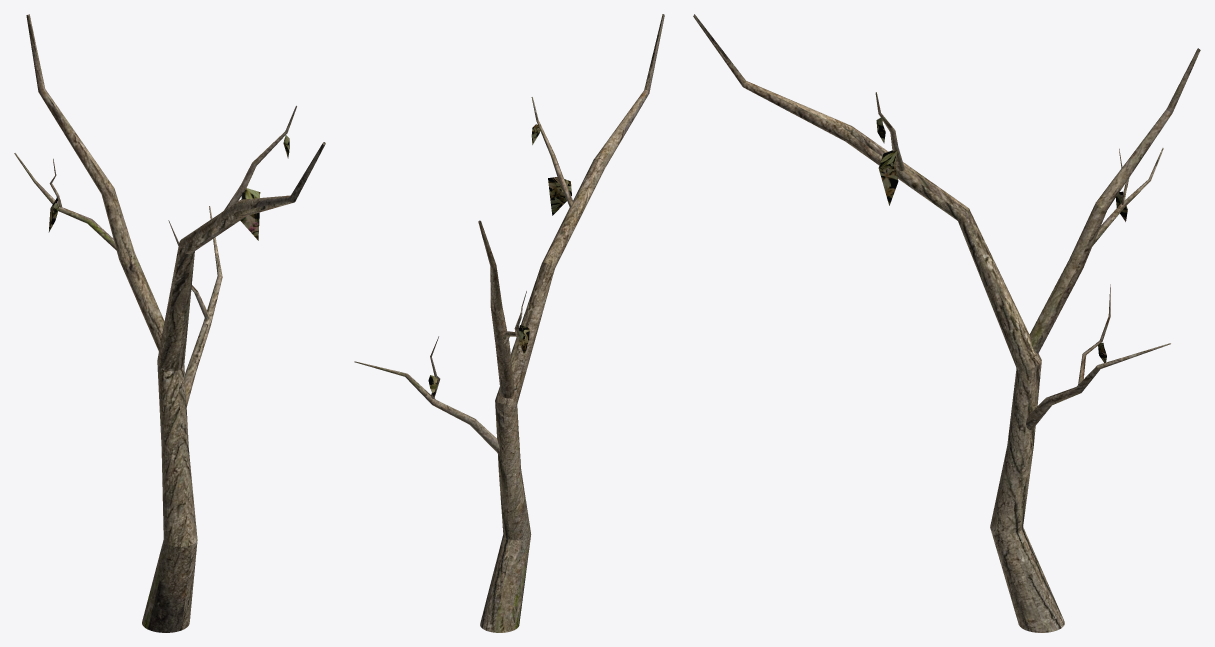
File: BushPlantDead.fbx
The picture shows the model from 3 angles, left to right: view 1: azimuth 30°, elevation 25°; view 2: azimuth 150°, elevation 25°; view 3: azimuth 270°, elevation 25°; orthographic projection. The views are drawn at different scales.
Parts seen in each view (by area): view 1: BushPlantDead; view 2: BushPlantDead; view 3: BushPlantDead.
Part boxes in pixels (x1=…): BushPlantDead: x1=14, y1=14, x2=325, y2=632; BushPlantDead: x1=354, y1=14, x2=664, y2=632; BushPlantDead: x1=693, y1=14, x2=1200, y2=632.
Bounding box in the file's own units: 0.3003 × 0.6802 × 0.8866.
